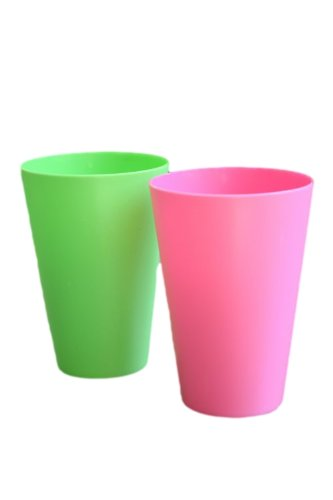plastic_glass: (147, 161, 317, 419)
